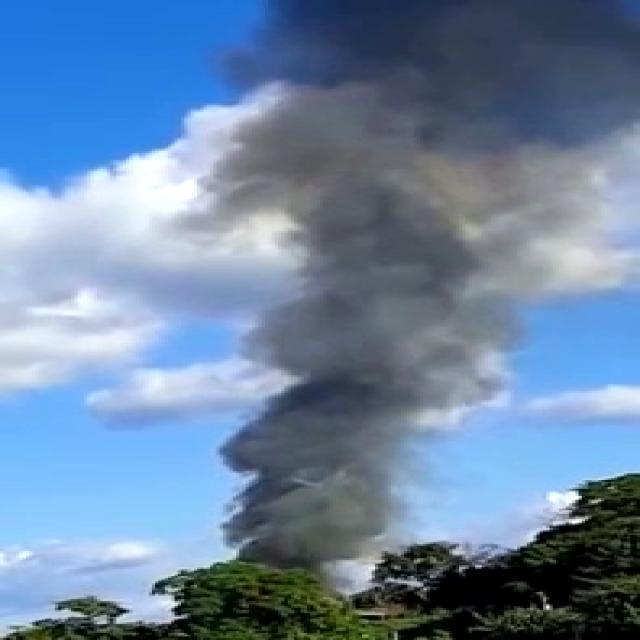Smoke: (213, 0, 640, 546)
